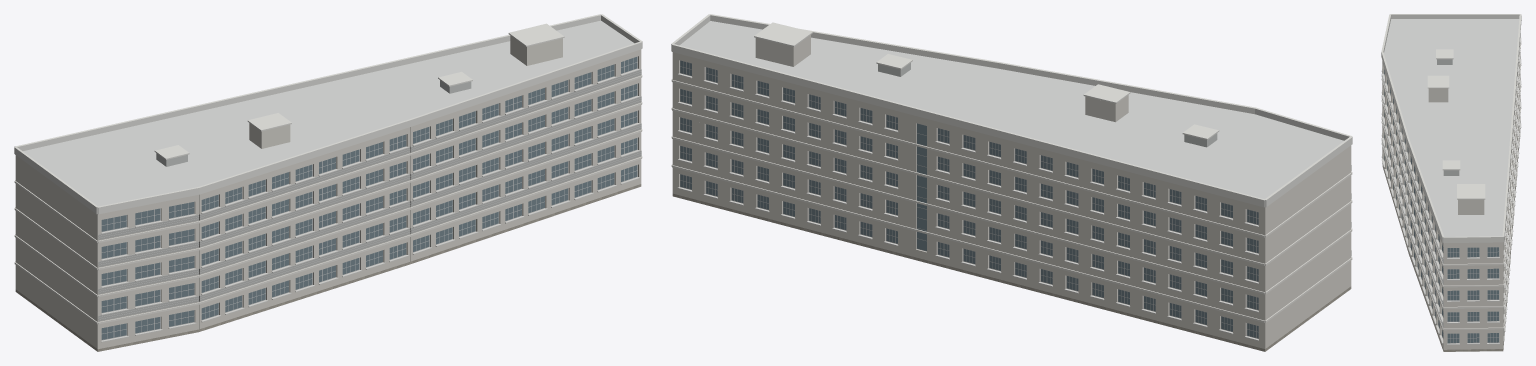
3 views of the same model, side by side, from view 1: azimuth 30°, elevation 25°; view 2: azimuth 150°, elevation 25°; view 3: azimuth 270°, elevation 25° (orthographic). The views are drawn at different scales.
Parts seen in each view (by area): view 1: main__wall, main__roof, main__glass, main__louvre, main__cap, main__frame, main__band, main__sill, main__stone, main__plant; view 2: main__wall, main__roof, main__glass, main__cap, main__frame, main__band, main__sill, main__stone, main__stairglass, main__plant; view 3: main__roof, main__wall, main__cap, main__sill, main__glass, main__band, main__frame, main__louvre, main__stone, main__plant.
Boxes of the visible parts, x1=… form: main__wall: x1=15, y1=35, x2=641, y2=349; main__roof: x1=23, y1=20, x2=634, y2=206; main__glass: x1=101, y1=57, x2=637, y2=339; main__louvre: x1=98, y1=69, x2=641, y2=321; main__cap: x1=14, y1=14, x2=642, y2=214; main__frame: x1=101, y1=56, x2=637, y2=340; main__band: x1=14, y1=75, x2=642, y2=324; main__sill: x1=101, y1=68, x2=639, y2=342; main__stone: x1=15, y1=184, x2=641, y2=351; main__plant: x1=156, y1=80, x2=471, y2=166; main__wall: x1=672, y1=35, x2=1351, y2=348; main__roof: x1=679, y1=21, x2=1343, y2=198; main__glass: x1=680, y1=60, x2=1258, y2=338; main__cap: x1=671, y1=14, x2=1352, y2=207; main__frame: x1=680, y1=60, x2=1258, y2=338; main__band: x1=671, y1=79, x2=1352, y2=322; main__sill: x1=677, y1=73, x2=1258, y2=340; main__stone: x1=672, y1=193, x2=1351, y2=351; main__stairglass: x1=917, y1=123, x2=926, y2=250; main__plant: x1=878, y1=63, x2=1217, y2=147; main__roof: x1=1384, y1=19, x2=1519, y2=236; main__wall: x1=1382, y1=34, x2=1520, y2=349; main__cap: x1=1381, y1=14, x2=1521, y2=243; main__sill: x1=1381, y1=37, x2=1521, y2=344; main__glass: x1=1384, y1=69, x2=1498, y2=343; main__band: x1=1381, y1=42, x2=1521, y2=330; main__frame: x1=1384, y1=89, x2=1499, y2=343; main__louvre: x1=1381, y1=72, x2=1443, y2=327; main__stone: x1=1382, y1=132, x2=1520, y2=351; main__plant: x1=1437, y1=59, x2=1459, y2=175.
Size of the model in its own units: 80.64 by 21.32 by 21.34.
Materials: 12 (1 with a texture image).
